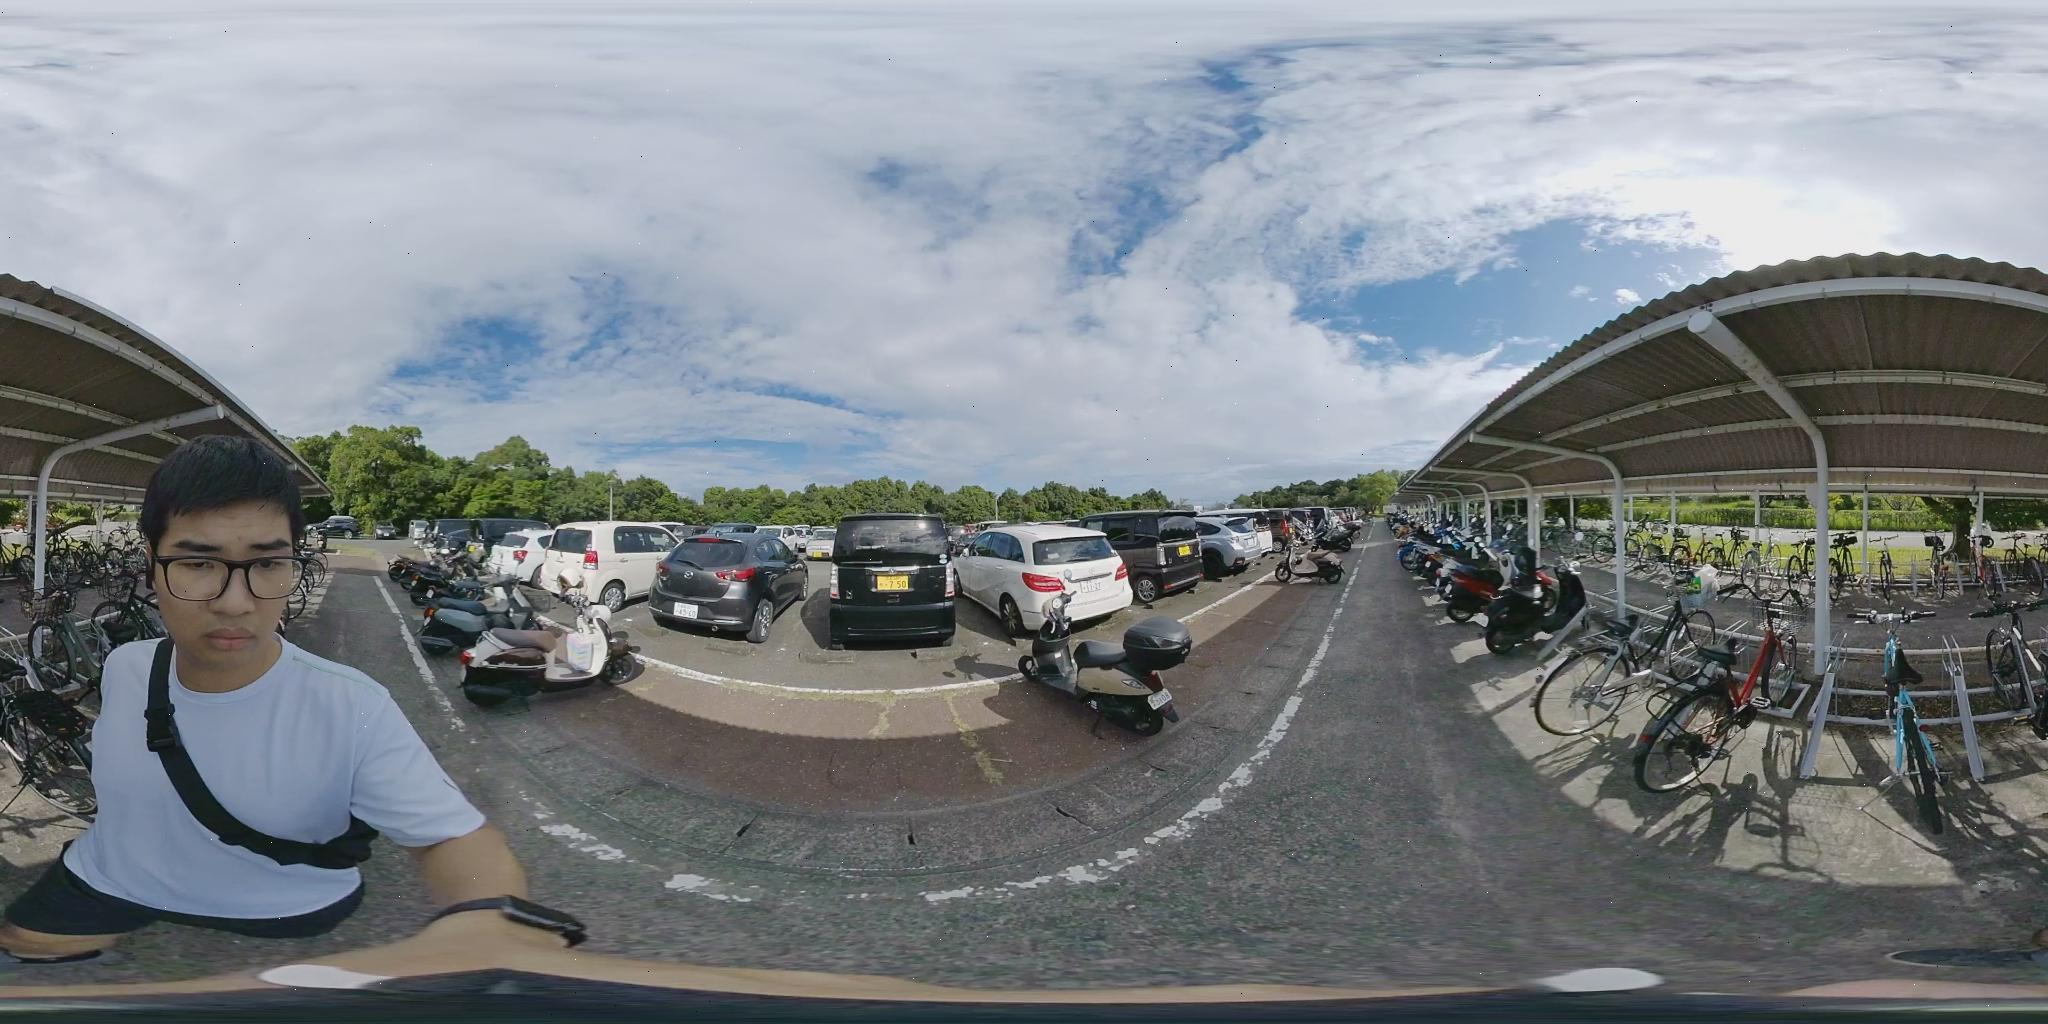car: (973, 505, 1229, 616), (943, 522, 1131, 641), (647, 529, 811, 643), (827, 516, 956, 657), (1076, 508, 1236, 598), (529, 522, 705, 603)
